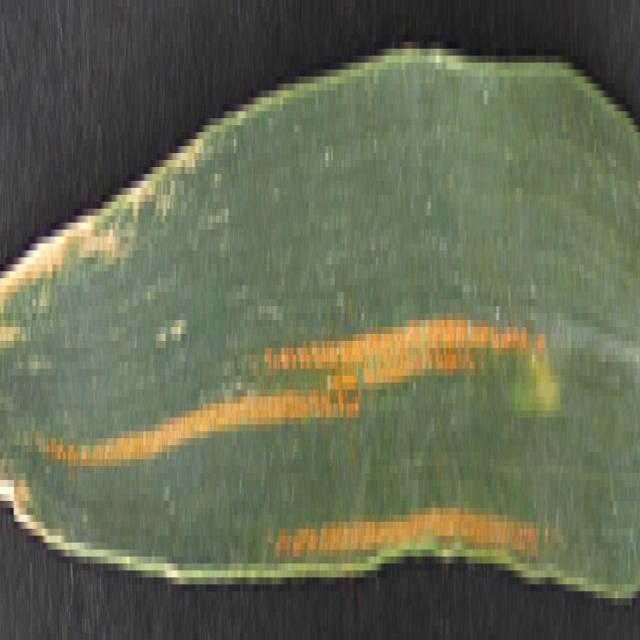leaf rust: (46, 230, 552, 578)
